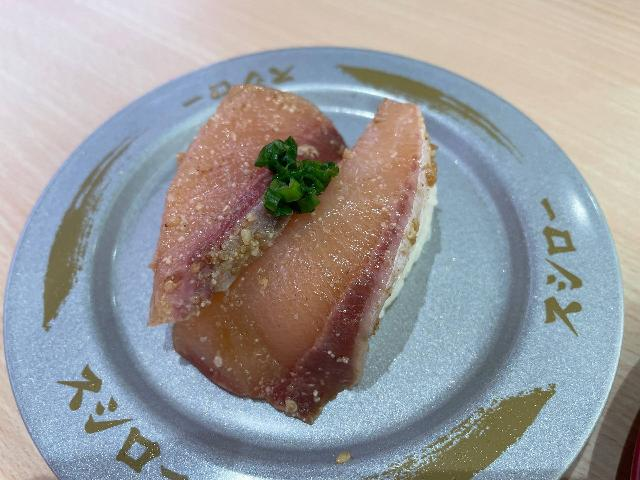janwhite: (33, 72, 560, 466)
